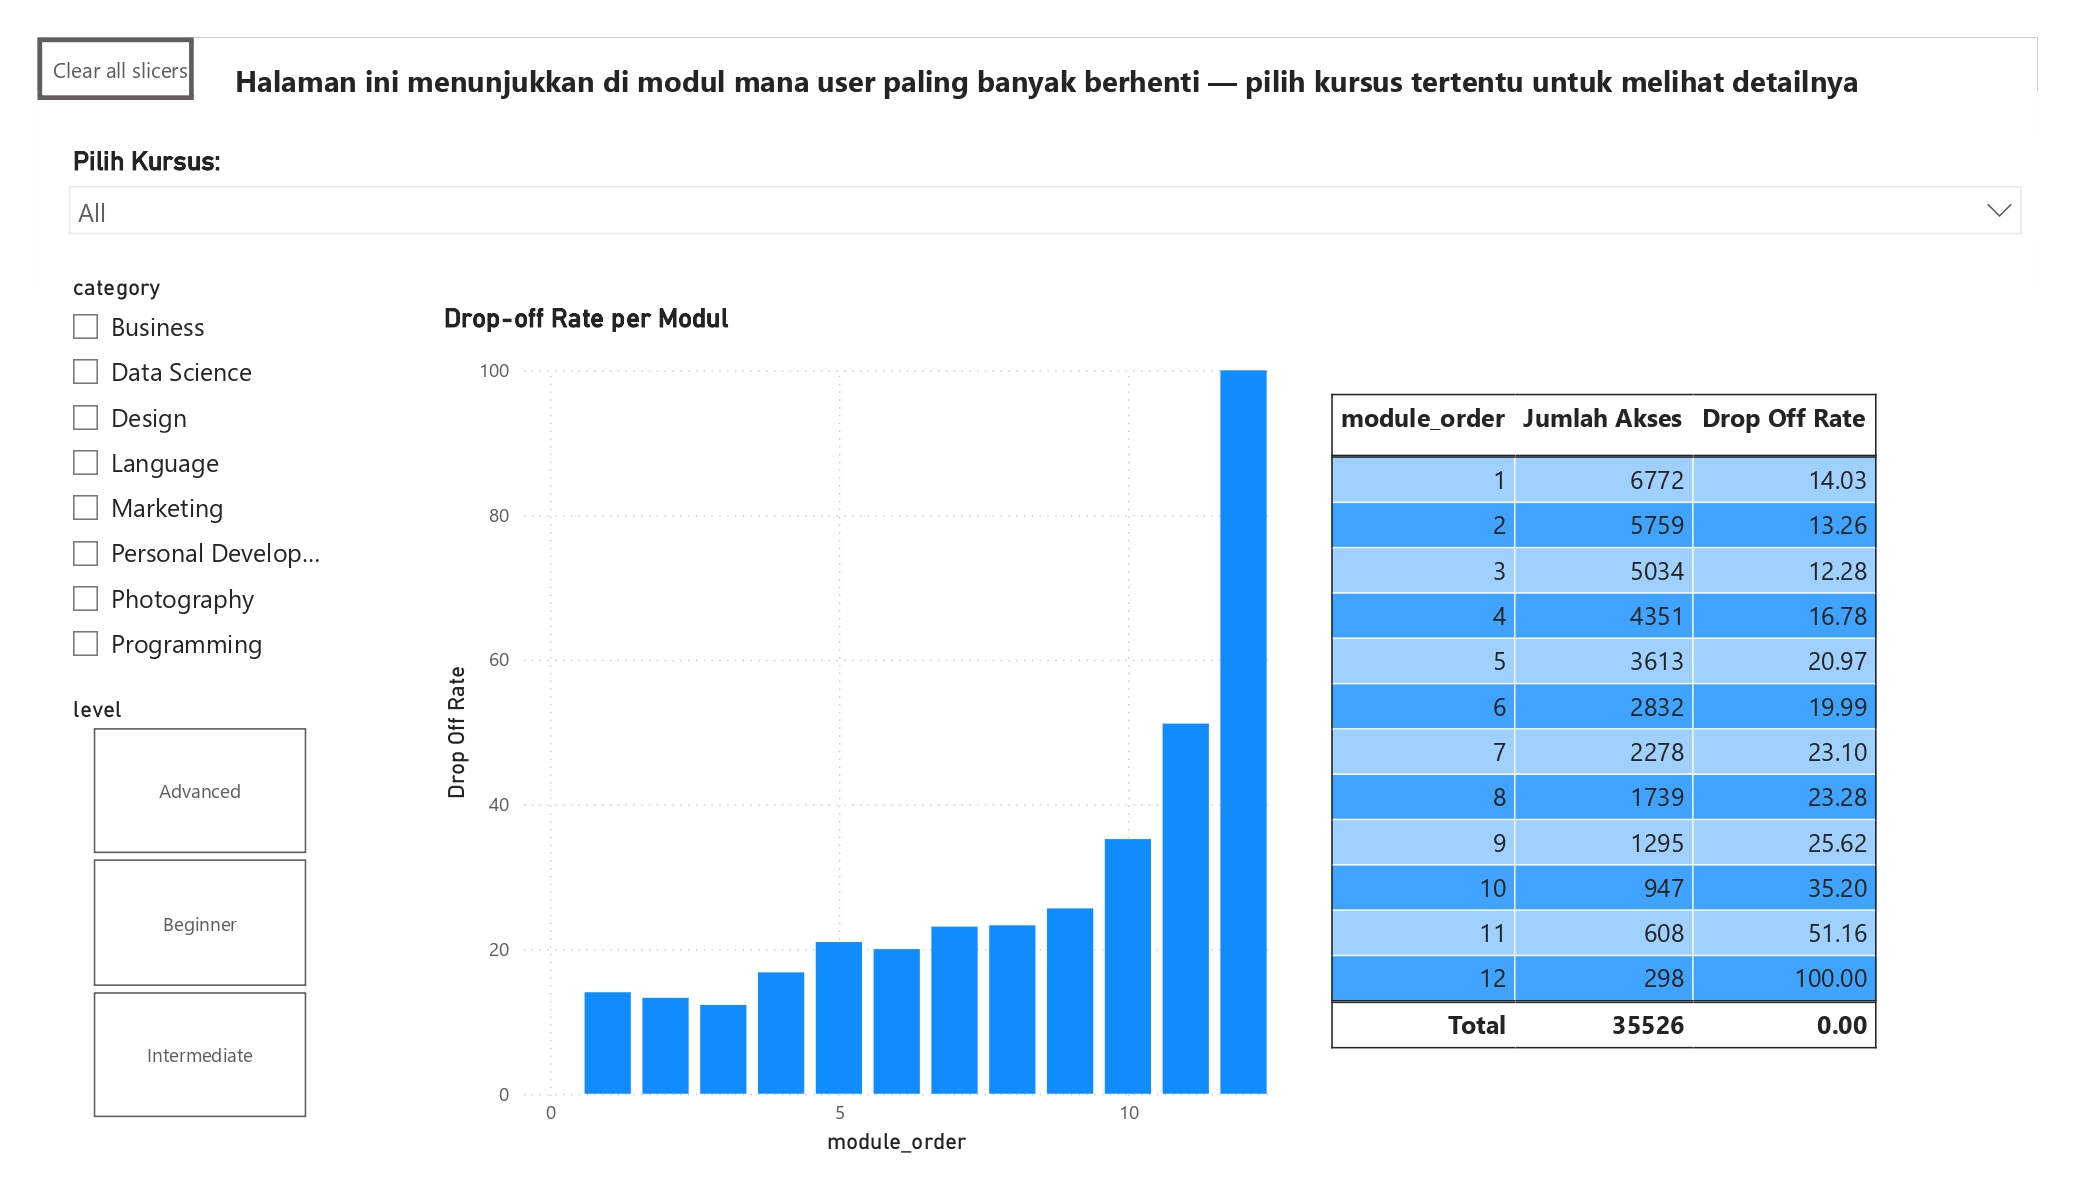

Layout of this report page (visuals, bound fields, positions):
{"tool":"powerbi","page":{"name":"Drop-off Analysis","canvas":[1280,720],"ordinal":3},"visuals":[{"type":"slicer","fields":{"Values":["dim_courses_cleaned.course_name"]},"box":[10.2,64.2,1269.8,64.2],"z":0},{"type":"lineStackedColumnComboChart","title":"Drop-off Rate per Modul","fields":{"Category":["dim_modules_cleaned.module_order"],"Y":["fact_progress_cleaned.Drop Off Rate"]},"box":[255.4,169.3,537.1,550.2],"z":1},{"type":"tableEx","fields":{"Values":["dim_modules_cleaned.module_order","CountNonNull(fact_progress_cleaned.progress_id)","fact_progress_cleaned.Drop Off Rate"]},"box":[821.7,223.3,395.6,440.2],"z":2},{"type":"slicer","fields":{"Values":["dim_courses_cleaned.level"]},"box":[10.1,417.2,185.6,280.5],"z":3},{"type":"slicer","fields":{"Values":["dim_courses_cleaned.category"]},"box":[10.2,147.4,185.4,262.7],"z":4},{"type":"actionButton","box":[0,0,100,40],"z":5},{"type":"textbox","box":[102.6,10.3,1086.5,58.6],"z":6}]}

Visuals, with their boxes on the page's 1280x720 design canvas (x1, y1, x2, y2). These are canvas units, not pixel positions in the 2075x1200 screenshot, which may show the page scaled, cropped or inside an application window:
slicer - dim_courses_cleaned.course_name: detection(10, 64, 1280, 128)
"Drop-off Rate per Modul" lineStackedColumnComboChart: detection(255, 169, 792, 720)
tableEx - dim_modules_cleaned.module_order x CountNonNull(fact_progress_cleaned.progress_id): detection(822, 223, 1217, 664)
slicer - dim_courses_cleaned.level: detection(10, 417, 196, 698)
slicer - dim_courses_cleaned.category: detection(10, 147, 196, 410)
actionButton: detection(0, 0, 100, 40)
textbox: detection(103, 10, 1189, 69)
